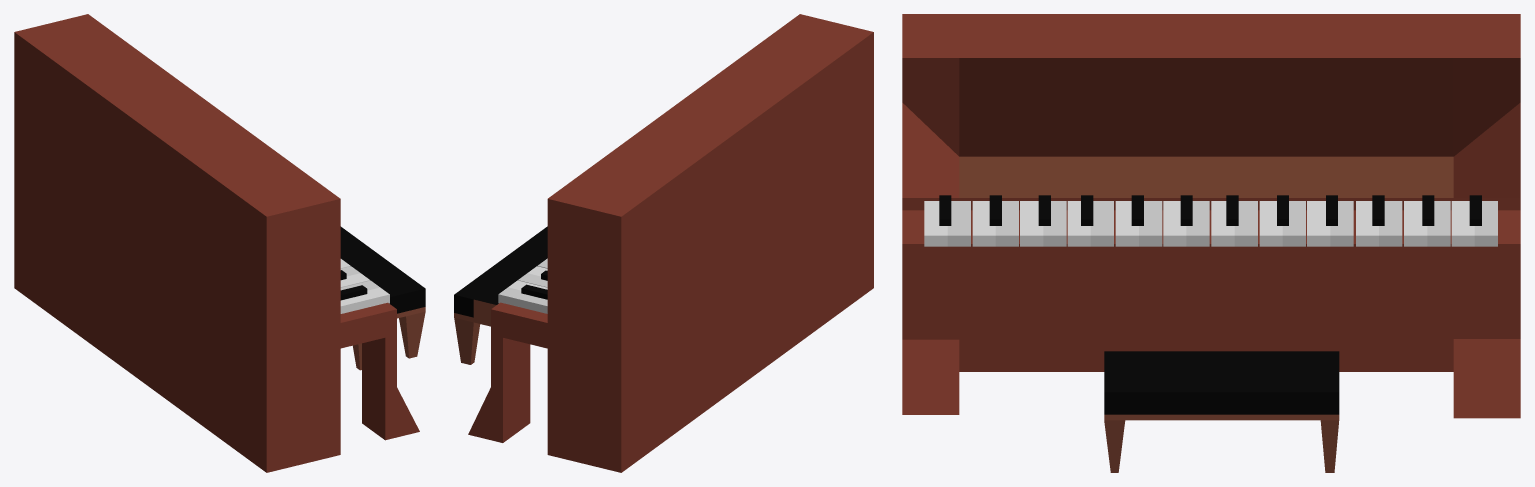
Rendered from SaloonPiano.fbx.
3 renders of one model, left to right at view 1: azimuth 30°, elevation 25°; view 2: azimuth 150°, elevation 25°; view 3: azimuth 270°, elevation 25°, orthographic. The views are drawn at different scales.
Visible parts, largest first — view 1: PianoBase, PianoStool, Key; view 2: PianoBase, PianoStool, Key.018; view 3: PianoBase, PianoStool, Key.010, Key.001, Key.013, Key.004, Key.009, Key.016, Key.019, Key.020, Key.022, Key.003 (+14 smaller).
Part boxes in pixels (x1,y1,x2,y2): PianoBase: [14, 14, 419, 472]; PianoStool: [340, 226, 425, 370]; Key: [340, 287, 389, 313]; PianoBase: [468, 14, 873, 472]; PianoStool: [454, 226, 547, 364]; Key.018: [498, 287, 547, 313]; PianoBase: [902, 14, 1520, 418]; PianoStool: [1104, 351, 1339, 472]; Key.010: [1090, 201, 1113, 246]; Key.001: [947, 201, 970, 246]; Key.013: [1234, 201, 1257, 246]; Key.004: [1020, 201, 1043, 246]; Key.009: [1139, 201, 1162, 246]; Key.016: [1307, 201, 1330, 246]; Key.019: [1451, 201, 1474, 246]; Key.020: [1404, 201, 1427, 246]; Key.022: [1379, 201, 1402, 246]; Key.003: [972, 201, 995, 246].
Size of the model in its own units: 238 by 244 by 431.
